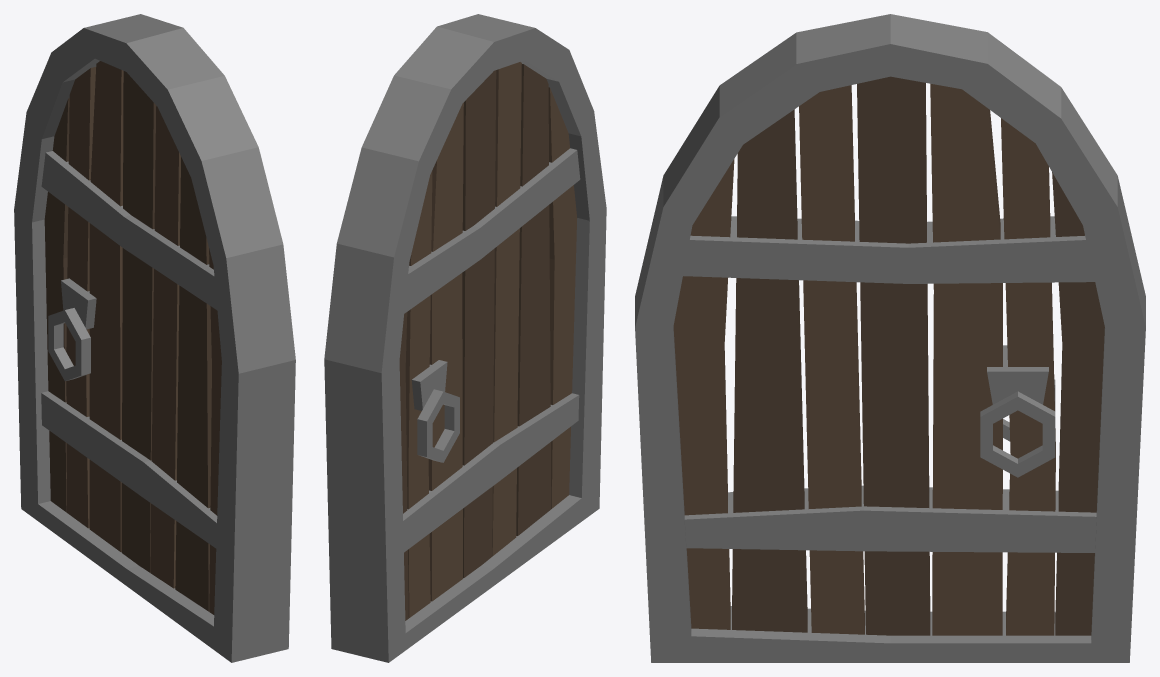
The model's file is Door.gltf.
3 renders of one model, left to right at view 1: azimuth 30°, elevation 25°; view 2: azimuth 150°, elevation 25°; view 3: azimuth 270°, elevation 25°, orthographic. The views are drawn at different scales.
Parts seen in each view (by area): view 1: Door2; view 2: Door2; view 3: Door2.
Boxes of the visible parts, x1,y1,x2,y2 form: Door2: (14, 14, 295, 662); Door2: (324, 14, 606, 662); Door2: (635, 14, 1145, 662).
Size of the model in its own units: 0.0592 by 0.4598 by 0.344.
1 material, 1 textured.
